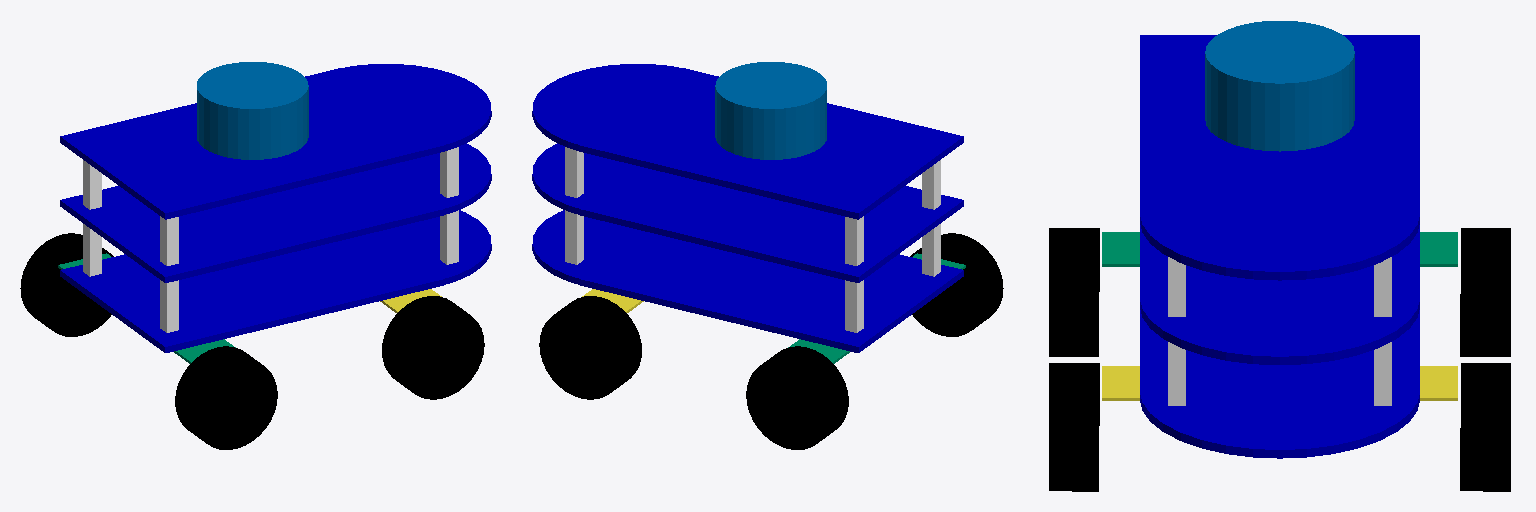
The robot description file, URDF, robot "ALLAI-allbot":
<?xml version="1.0"?>
  <robot name="ALLAI-allbot" xmlns:xacro="http://ros.org/wiki/xacro">
  <!--<link name="base_footprint"/>

  <joint name="base_joint" type="fixed">
    <parent link="base_footprint"/>
    <child link="base_link"/>
    <origin xyz="0.0 0.0 0.010" rpy="0 0 0"/>
  </joint>
-->
  <link name="base_link">
    <visual>
      <geometry>
        <box size="0.23 0.15 0.005"/>
      </geometry>
      <origin rpy="0 0 0" xyz="0 0 0.065"/>
      <material name="blue">
        <color rgba="0 0 .8 1"/>
      </material>
    </visual>
  </link>

  <link name="base_link_head">
    <visual>
      <geometry>
        <cylinder length="0.005" radius="0.075"/>
      </geometry>
      <origin rpy="0 0 0" xyz="0.11 0 0.065"/>
      <material name="blue">
        <color rgba="0 0 .8 1"/>
      </material>
    </visual>
  </link>

    <link name="perception_deck">
      <visual>
        <geometry>
          <box size="0.23 0.15 0.005"/>
        </geometry>
        <origin rpy="0 0 0" xyz="0 0 0.12"/>
        <material name="blue">
          <color rgba="0 0 .8 1"/>
        </material>
      </visual>
    </link>

    <link name="perception_deck_head">
      <visual>
        <geometry>
          <cylinder length="0.005" radius="0.075"/>
        </geometry>
        <origin rpy="0 0 0" xyz="0.11 0 0.12"/>
        <material name="blue">
          <color rgba="0 0 .8 1"/>
        </material>
      </visual>
    </link>

    <link name="lidar_deck">  <!-- jay -->
      <visual>
        <geometry>
          <box size="0.23 0.15 0.005"/>
        </geometry>
        <origin rpy="0 0 0" xyz="0 0 0.17"/>
        <material name="blue">
          <color rgba="0 0 .8 1"/>
        </material>
      </visual>
    </link>

    <link name="lidar_deck_head">
      <visual>
        <geometry>
          <cylinder length="0.005" radius="0.075"/>
        </geometry>
        <origin rpy="0 0 0" xyz="0.11 0 0.17"/>
        <material name="blue">
          <color rgba="0 0 .8 1"/>
        </material>
      </visual>
    </link>

    <link name="wheel_rear_left">
      <visual>
        <geometry>
          <cylinder length="0.027" radius="0.0345"/>
        </geometry>
        <origin rpy="1.57 0 0" xyz="-0.085 0.11 0.0345"/>
        <material name="black">
          <color rgba="0 0 0 1"/>
        </material>
      </visual>
    </link>

    <link name="wheel_rear_right">
      <visual>
        <geometry>
          <cylinder length="0.027" radius="0.0345"/>
        </geometry>
        <origin rpy="1.57 0 0" xyz="-0.085 -0.11 0.0345"/>
        <material name="black">
          <color rgba="0 0 0 1"/>
        </material>
      </visual>
    </link>

    <link name="wheel_front_left"> <!-- jay -->
      <visual>
        <geometry>
          <cylinder length="0.027" radius="0.0345"/>
        </geometry>
        <origin rpy="1.57 0 0" xyz="0.085 -0.11 0.0345"/>
        <material name="black">
          <color rgba="0 0 0 1"/>
        </material>
      </visual>
    </link>

    <link name="wheel_front_right"> <!-- jay -->
      <visual>
        <geometry>
          <cylinder length="0.027" radius="0.0345"/>
        </geometry>
        <origin rpy="1.57 0 0" xyz="0.085 0.11 0.0345"/>
        <material name="black">
          <color rgba="0 0 0 1"/>
        </material>
      </visual>
    </link>

    <link name="wheel_rear_track">
      <visual>
        <geometry>
          <box size="0.04 0.19 0.002"/>
        </geometry>
        <origin rpy="0 0 0" xyz="-0.085 0.0 0.06"/>
        <material name="white"/>
      </visual>
    </link>

    <link name="wheel_front_track"> <!-- jay -->
      <visual>
        <geometry>
          <box size="0.04 0.19 0.002"/>
        </geometry>
        <origin rpy="0 0 0" xyz="0.085 0.0 0.06"/>
        <material name="white"/>
      </visual>
    </link>

    <link name="laser">
      <visual>
        <origin rpy="0 0 0.0" xyz="0 0 0"/>
        <geometry>
         <cylinder length="0.04" radius="0.04"/>
        <!-- <mesh filename="package://allbot_urdf/urdf/lds.stl" scale="0.001 0.001 0.001"/> -->
        </geometry>
        <material name="dark"/>
      </visual>
    </link>
    
    <link name="left_rear_pole">
      <visual>
        <geometry>
          <box size="0.01 0.01 0.095"/>
        </geometry>
        <origin rpy="0 0 0" xyz="-0.10 0.055 0.1175"/>
        <material name="silver">
          <color rgba="192 192 192 0.6"/>
        </material>
      </visual>
    </link>

    <link name="left_front_pole">
      <visual>
        <geometry>
          <box size="0.01 0.01 0.095"/>
        </geometry>
        <origin rpy="0 0 0" xyz="0.13 0.055 0.1175"/>
        <material name="silver">
          <color rgba="192 192 192 0.6"/>
        </material>
      </visual>
    </link>

    <link name="right_rear_pole">
      <visual>
        <geometry>
          <box size="0.01 0.01 0.095"/>
        </geometry>
        <origin rpy="0 0 0" xyz="-0.10 -0.055 0.1175"/>
        <material name="silver">
          <color rgba="192 192 192 0.6"/>
        </material>
      </visual>
    </link>

    <link name="right_front_pole">
      <visual>
        <geometry>
          <box size="0.01 0.01 0.095"/>
        </geometry>
        <origin rpy="0 0 0" xyz="0.13 -0.055 0.1175"/>
        <material name="silver">
          <color rgba="192 192 192 0.6"/>
        </material>
      </visual>
    </link>

    <joint name="base_to_base_link_head" type="fixed">
      <parent link="base_link"/>
      <child link="base_link_head"/>
      <origin xyz="0 0 0"/>
    </joint>

    <joint name="base_to_lidar_deck" type="fixed">
      <parent link="base_link"/>
      <child link="lidar_deck"/>
      <origin xyz="0 0 0"/>
    </joint>

    <joint name="base_to_lidar_deck_head" type="fixed">
      <parent link="base_link"/>
      <child link="lidar_deck_head"/>
      <origin xyz="0 0 0"/>
    </joint>

    <joint name="base_to_wheel_front_left" type="fixed">
      <parent link="base_link"/>
      <child link="wheel_front_left"/>
      <origin xyz="0 0 0"/>
    </joint>

    <joint name="base_to_wheel_front_right" type="fixed">
      <parent link="base_link"/>
      <child link="wheel_front_right"/>
      <origin xyz="0 0 0"/>
    </joint>

    <joint name="base_to_wheel_rear_left" type="fixed">
      <parent link="base_link"/>
      <child link="wheel_rear_left"/>
      <origin xyz="0 0 0"/>
    </joint>

    <joint name="base_to_wheel_rear_right" type="fixed">
      <parent link="base_link"/>
      <child link="wheel_rear_right"/>
      <origin xyz="0 0 0"/>
    </joint>

    <joint name="base_to_wheel_front_track" type="fixed">
      <parent link="base_link"/>
      <child link="wheel_front_track"/>
      <origin xyz="0 0 0"/>
    </joint>

    <joint name="base_to_wheel_rear_track" type="fixed">
      <parent link="base_link"/>
      <child link="wheel_rear_track"/>
      <origin xyz="0 0 0"/>
    </joint>

    <joint name="base_to_laser" type="fixed">
      <parent link="base_link"/>
      <child link="laser"/>
      <origin xyz="0.0 0.0 0.1960"/>      
    </joint>

    <joint name="base_to_left_pole_one" type="fixed">
      <parent link="base_link"/>
      <child link="left_rear_pole"/>
      <origin xyz="0 0 0"/>
    </joint>

    <joint name="base_to_left_pole_two" type="fixed">
      <parent link="base_link"/>
      <child link="left_front_pole"/>
      <origin xyz="0 0 0"/>
    </joint>

    <joint name="base_to_right_pole_one" type="fixed">
      <parent link="base_link"/>
      <child link="right_rear_pole"/>
      <origin xyz="0 0 0"/>
    </joint>

    <joint name="base_to_right_pole_two" type="fixed">
      <parent link="base_link"/>
      <child link="right_front_pole"/>
      <origin xyz="0 0 0"/>
    </joint>

    <joint name="base_to_perception_deck" type="fixed">
      <parent link="base_link"/>
      <child link="perception_deck"/>
      <origin xyz="0 0 0"/>
    </joint>

    <joint name="base_to_perception_deck_head" type="fixed">
      <parent link="base_link"/>
      <child link="perception_deck_head"/>
      <origin xyz="0 0 0"/>
    </joint>

</robot>

--- What the picture shows (computed from the rendered views, not written in the file) ---
3 views of the same robot in one strip: view 1: azimuth 30°, elevation 25°; view 2: azimuth 150°, elevation 25°; view 3: azimuth 270°, elevation 25° (orthographic).
Model ALLAI-allbot with 17 links and 16 joints (16 fixed), rooted at base_link, posed every joint at zero.
Links seen in each view (by area): view 1: lidar_deck, perception_deck, base_link, laser, wheel_front_left, wheel_rear_right, lidar_deck_head, base_link_head, wheel_rear_left, perception_deck_head, right_rear_pole, right_front_pole (+2 smaller); view 2: lidar_deck, base_link, perception_deck, laser, lidar_deck_head, wheel_front_right, wheel_rear_left, perception_deck_head, base_link_head, wheel_rear_right, left_rear_pole, left_front_pole (+2 smaller); view 3: lidar_deck, perception_deck_head, lidar_deck_head, laser, base_link_head, base_link, wheel_rear_right, wheel_rear_left, wheel_front_right, wheel_front_left, wheel_rear_track, wheel_front_track (+3 smaller).
Link boxes in pixels (<box>): lidar_deck: <box>60,68,444,219</box>; perception_deck: <box>60,166,444,282</box>; base_link: <box>60,231,444,352</box>; laser: <box>197,62,308,159</box>; wheel_front_left: <box>382,296,484,399</box>; wheel_rear_right: <box>175,346,277,449</box>; lidar_deck_head: <box>309,64,491,152</box>; base_link_head: <box>286,210,491,285</box>; wheel_rear_left: <box>20,233,113,336</box>; perception_deck_head: <box>290,143,491,214</box>; right_rear_pole: <box>160,216,178,332</box>; right_front_pole: <box>440,147,458,264</box>; lidar_deck: <box>579,68,963,219</box>; base_link: <box>579,231,963,352</box>; perception_deck: <box>579,166,963,282</box>; laser: <box>715,62,826,159</box>; lidar_deck_head: <box>532,64,716,150</box>; wheel_front_right: <box>539,296,641,399</box>; wheel_rear_left: <box>746,346,848,449</box>; perception_deck_head: <box>532,143,733,215</box>; base_link_head: <box>532,210,722,285</box>; wheel_rear_right: <box>910,233,1003,336</box>; left_rear_pole: <box>845,216,863,332</box>; left_front_pole: <box>565,147,583,264</box>; lidar_deck: <box>1140,35,1419,224</box>; perception_deck_head: <box>1140,263,1419,364</box>; lidar_deck_head: <box>1140,154,1419,280</box>; laser: <box>1205,21,1354,151</box>; base_link_head: <box>1141,354,1418,458</box>; base_link: <box>1140,310,1419,402</box>; wheel_rear_right: <box>1049,228,1099,356</box>; wheel_rear_left: <box>1460,228,1510,356</box>; wheel_front_right: <box>1460,363,1510,491</box>; wheel_front_left: <box>1049,363,1099,491</box>; wheel_rear_track: <box>1102,232,1457,266</box>; wheel_front_track: <box>1102,366,1457,400</box>.
Size in the robot's own frame: 0.3045 by 0.2471 by 0.216 metres.
Geometry: primitives only (box / cylinder / sphere), no mesh files.
